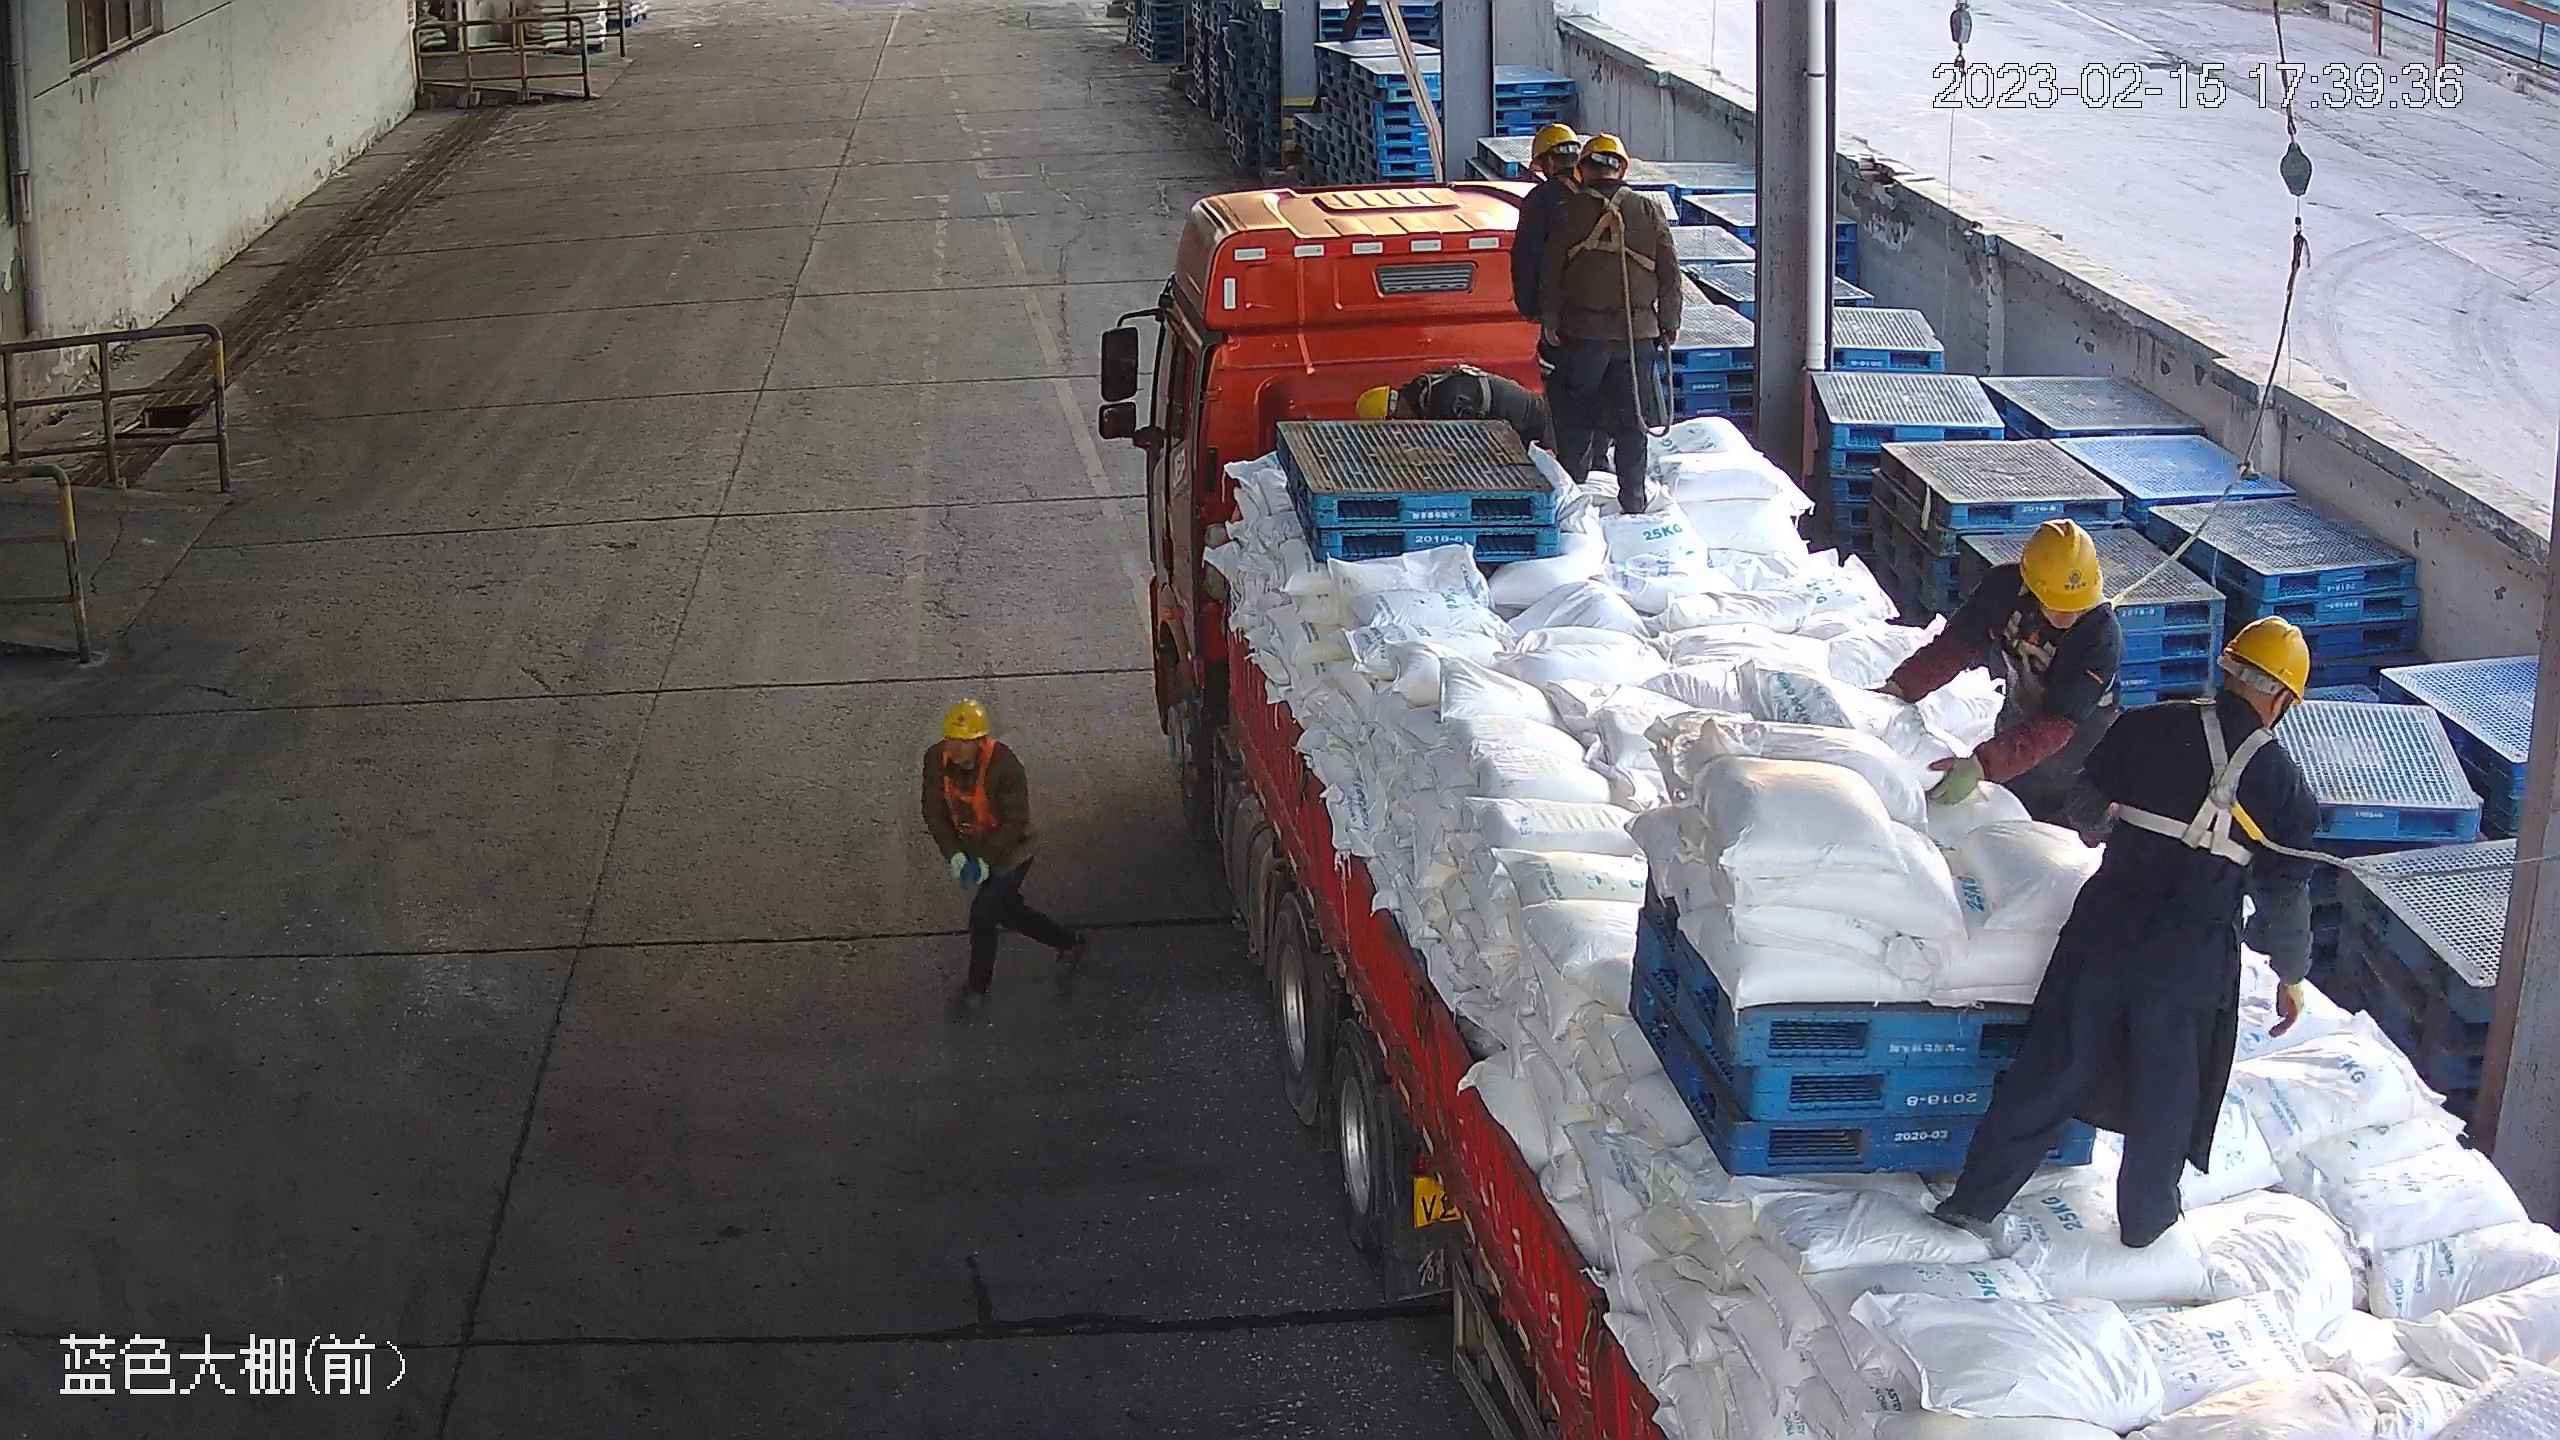belt: (2107, 695, 2325, 882), (1998, 582, 2127, 680), (1557, 172, 1672, 281)
head: (2088, 612, 2324, 830), (1968, 515, 2123, 663), (1541, 130, 1667, 223), (922, 694, 1029, 793)
helmet: (2016, 516, 2107, 613), (2223, 613, 2312, 706), (1525, 121, 1582, 173), (941, 697, 992, 743), (1574, 132, 1631, 172), (1349, 382, 1390, 421)
people: (1928, 619, 2324, 1253), (1879, 517, 2129, 840), (1537, 130, 1682, 517), (919, 695, 1087, 1013)
truck: (1143, 178, 2560, 1440)
